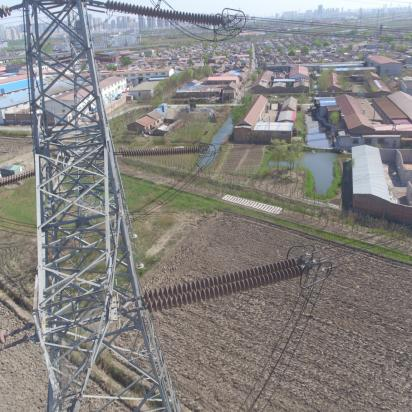insulator: (134, 258, 308, 314), (102, 1, 226, 29), (118, 146, 203, 158)
